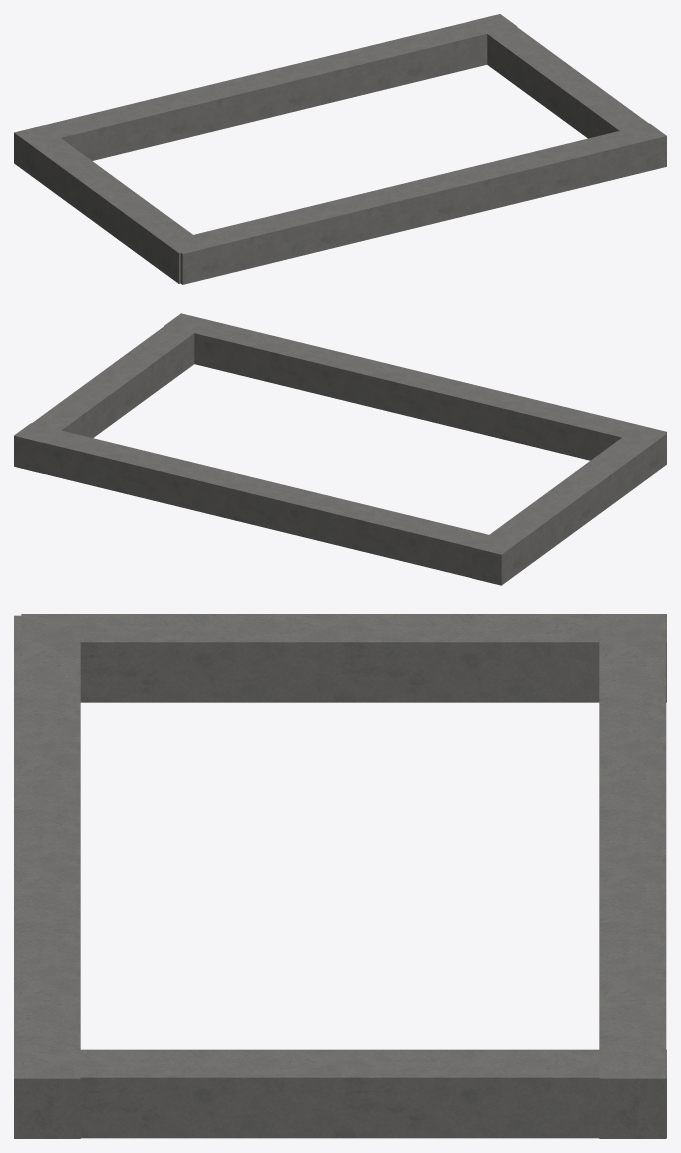
File: pillar.fbx
3 renders of one model, top to bottom at view 1: azimuth 30°, elevation 25°; view 2: azimuth 150°, elevation 25°; view 3: azimuth 270°, elevation 25°, orthographic. The views are drawn at different scales.
Parts seen in each view (by area): view 1: Cube.019; view 2: Cube.019; view 3: Cube.019.
Boxes of the visible parts, x1,y1,x2,y2 form: Cube.019: (14, 14, 666, 284); Cube.019: (14, 313, 666, 585); Cube.019: (14, 614, 666, 1138).
Bounding box in the file's own units: 824 × 50 × 490.
Materials: 1 (1 with a texture image).
